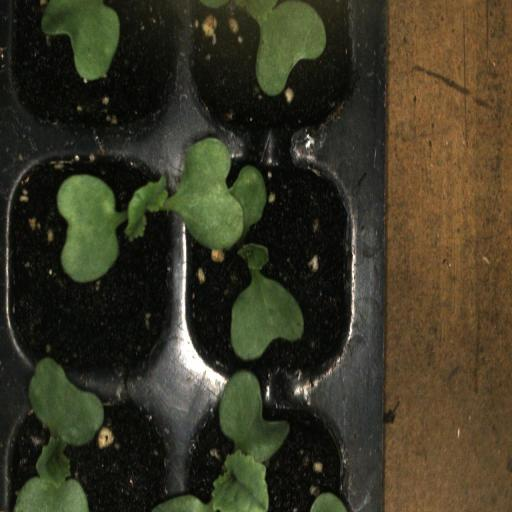seedling: (181, 144, 361, 392), (3, 143, 183, 388), (2, 388, 179, 512)
